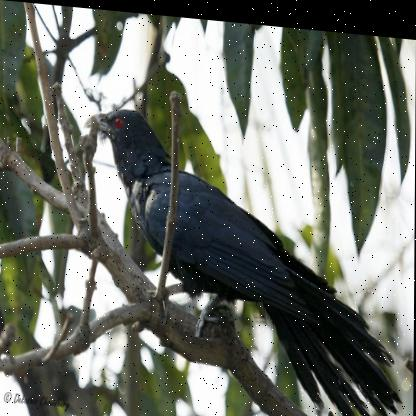Burung: (82, 102, 405, 415)
